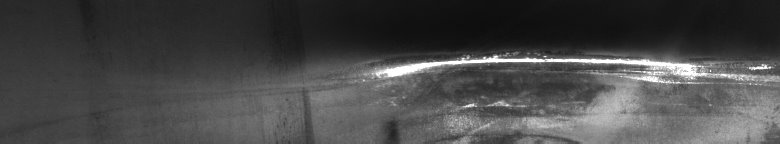ke: (364, 48, 776, 136)
